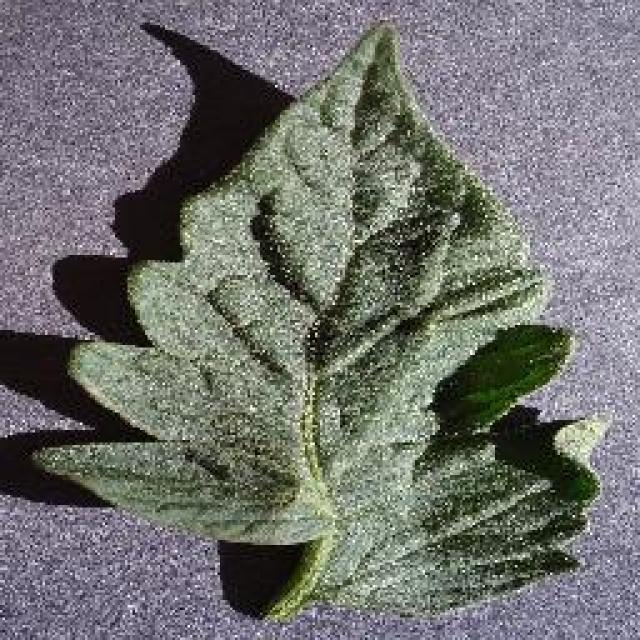Tomato healthy leaf: (42, 25, 598, 620)
